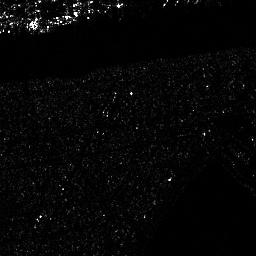ship: (29, 13, 74, 34)
